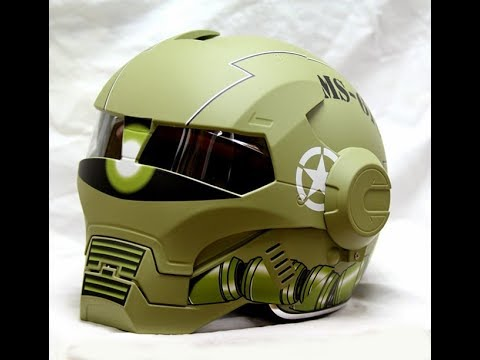with_helmet: (64, 23, 400, 345)
